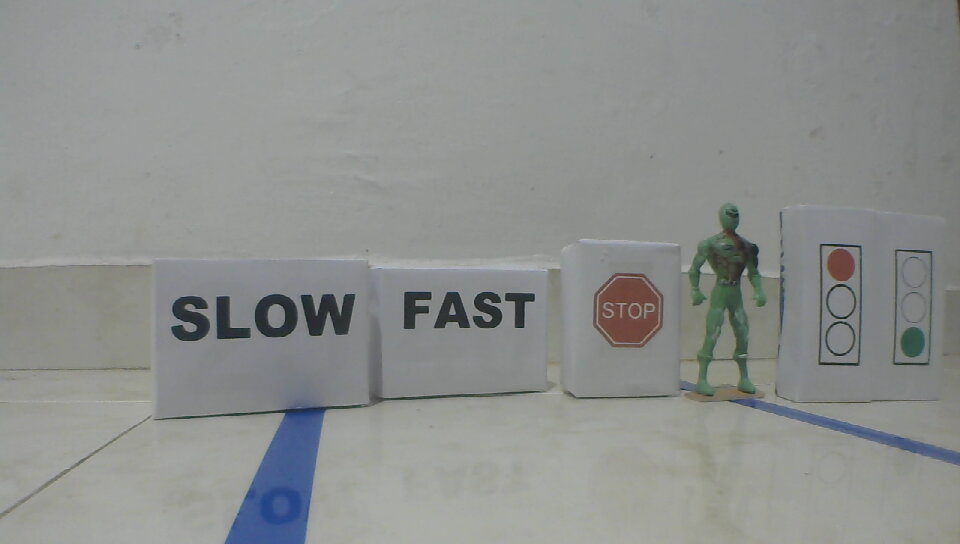Fast: (402, 289, 536, 331)
Green Traffic Light: (891, 248, 935, 368)
Person: (687, 200, 771, 403)
Red Traffic Light: (816, 241, 865, 369)
Slow: (166, 292, 358, 343)
Stop Sign: (592, 274, 666, 350)
